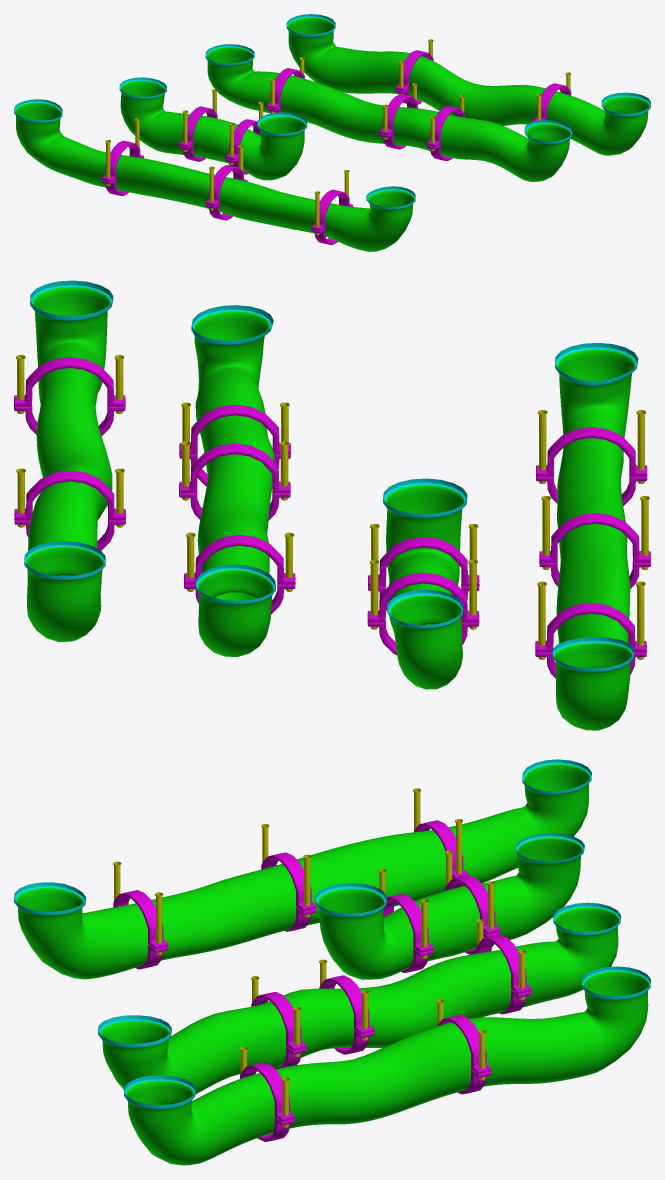
Rendered from Hanging_Tubes.fbx.
3 renders of one model, top to bottom at view 1: azimuth 30°, elevation 25°; view 2: azimuth 150°, elevation 25°; view 3: azimuth 270°, elevation 25°, orthographic. The views are drawn at different scales.
Visible parts, largest first — view 1: Hanging_Tubes; view 2: Hanging_Tubes; view 3: Hanging_Tubes.
Boxes of the visible parts, x1,y1,x2,y2 form: Hanging_Tubes: (14,14,650,251); Hanging_Tubes: (14,280,650,730); Hanging_Tubes: (14,759,650,1165).
Bounding box in the file's own units: 5330 × 660 × 4177.
